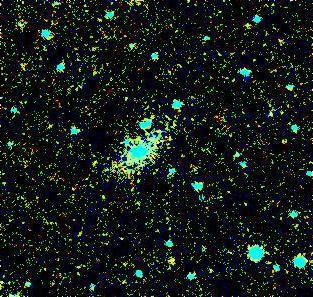star: (156, 252, 186, 282)
